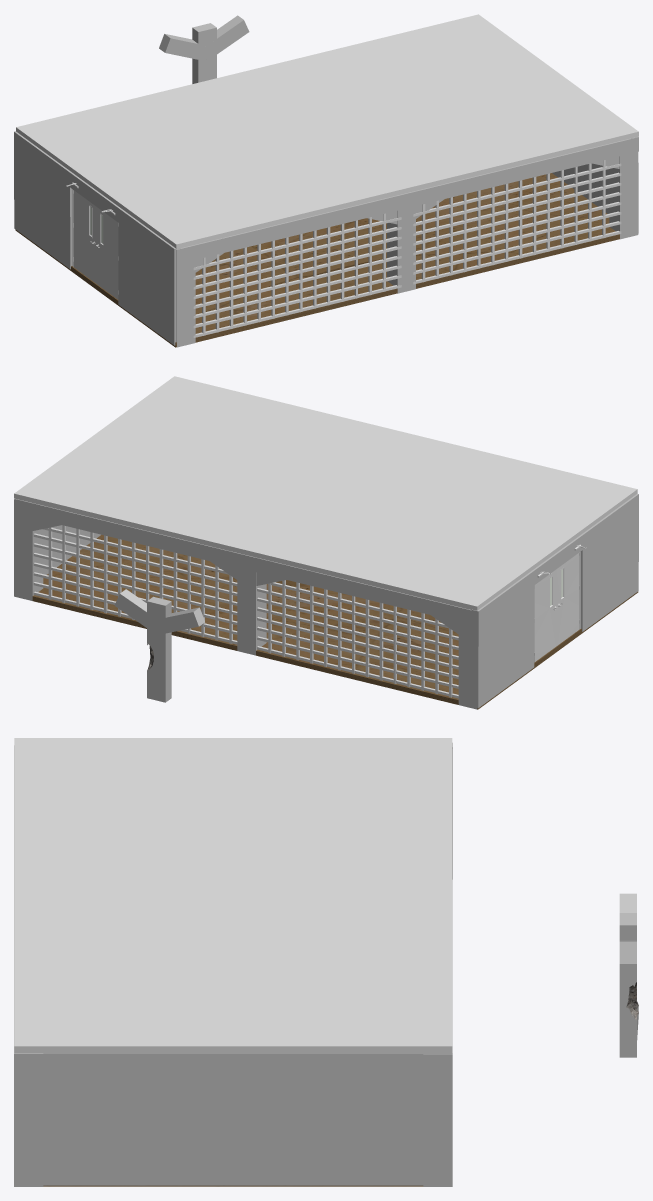
The model's file is Zimmer_ohne_saeule.fbx.
The picture shows the model from 3 angles, top to bottom: view 1: azimuth 30°, elevation 25°; view 2: azimuth 150°, elevation 25°; view 3: azimuth 270°, elevation 25°; orthographic projection. The views are drawn at different scales.
Visible parts, largest first — view 1: Dach, Boden, Wand_Vorne, Fensster_4, Fenster3, Cube.008, Cube.001, Cube.002, Cube.010, Cube.011, door_A_012.001, door_B_012.001 (+1 smaller); view 2: Dach, Boden, Wand_Vorne, Fenster2, Fenster, Cube.021, Cube.001, Cube.018, Cube.020, door_B_012.001, door_A_012.001, Cube.019 (+1 smaller); view 3: Dach, Wand_hinten, Cube.020, Cube.001, Cube.008, Boden.
Part boxes in pixels (x1,y1,x2,y2): Dach: (16,14,638,249); Boden: (15,173,619,347); Wand_Vorne: (14,131,180,345); Fensster_4: (413,160,621,284); Fenster3: (193,213,401,337); Cube.008: (176,137,638,264); Cube.001: (159,15,249,83); Cube.002: (367,184,444,293); Cube.010: (592,152,638,239); Cube.011: (176,238,223,347); door_A_012.001: (73,190,96,283); door_B_012.001: (96,207,118,299); Dach: (14,376,637,610); Boden: (32,534,638,709); Wand_Vorne: (471,493,638,708); Fenster2: (257,580,458,698); Fenster: (33,525,237,644); Cube.021: (14,498,471,621); Cube.001: (114,589,204,702); Cube.018: (210,554,285,655); Cube.020: (14,499,61,600); door_B_012.001: (557,552,579,645); door_A_012.001: (534,569,556,662); Cube.019: (431,608,477,709); Dach: (14,738,452,1052); Wand_hinten: (14,1053,423,1185); Cube.020: (423,1054,452,1186); Cube.001: (619,893,638,1057); Cube.008: (14,745,43,1073); Boden: (43,1185,423,1186).
Bounding box in the file's own units: 17592 × 3757 × 14686.
